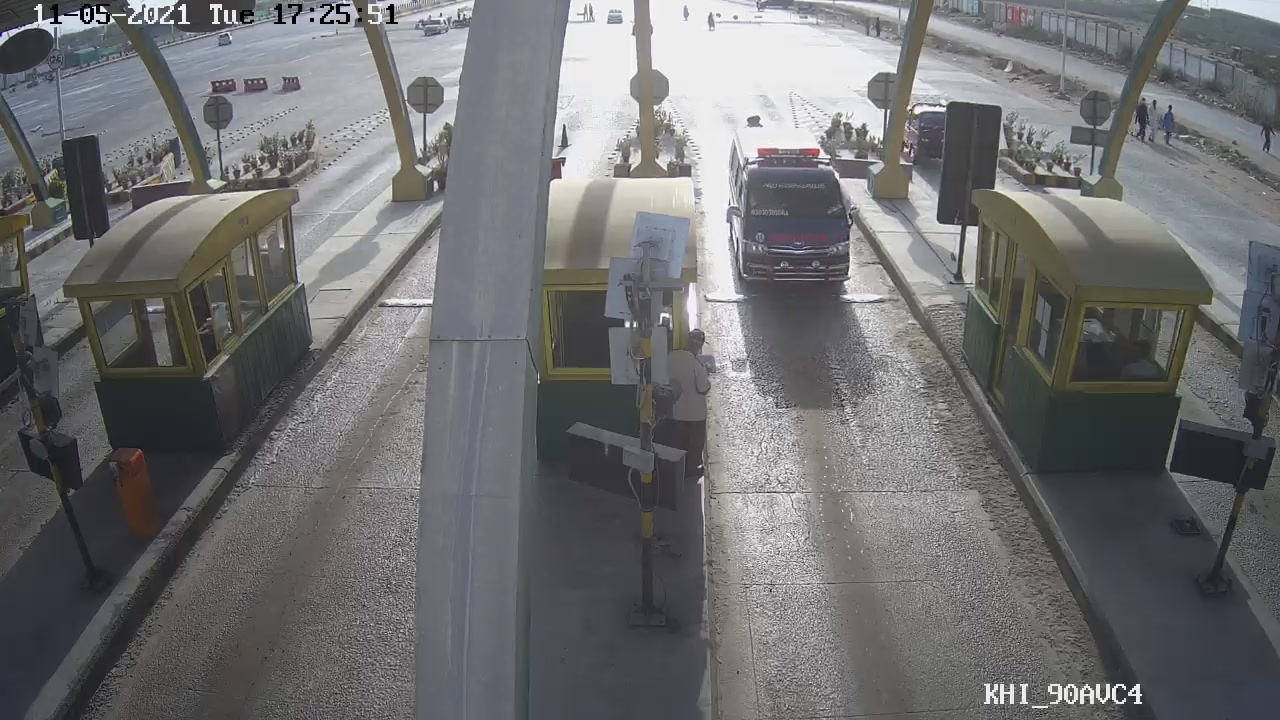F2: (724, 121, 867, 286)
